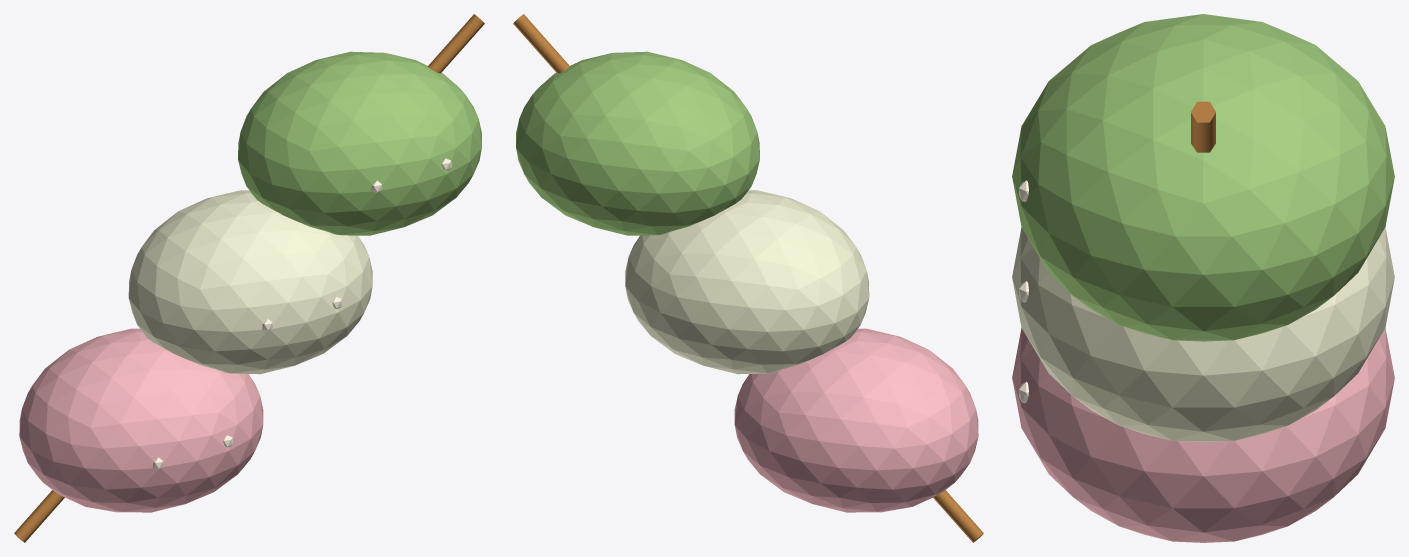
The model's file is mochi.obj.
3 views of the same model, side by side, from view 1: azimuth 30°, elevation 25°; view 2: azimuth 150°, elevation 25°; view 3: azimuth 270°, elevation 25° (orthographic). The views are drawn at different scales.
Visible parts, largest first — view 1: B_RiceCake2.001_mochi_flavor2, B_RiceCake0.001_mochi_flavor0, B_RiceCake1.001_mochi_flavor1, A_Skewer.001_mochi_bamboo_pick; view 2: B_RiceCake2.001_mochi_flavor2, B_RiceCake0.001_mochi_flavor0, B_RiceCake1.001_mochi_flavor1, A_Skewer.001_mochi_bamboo_pick; view 3: B_RiceCake2.001_mochi_flavor2, B_RiceCake1.001_mochi_flavor1, B_RiceCake0.001_mochi_flavor0, A_Skewer.001_mochi_bamboo_pick.
Boxes of the visible parts, <box> form: B_RiceCake2.001_mochi_flavor2: <box>238,51,481,235</box>; B_RiceCake0.001_mochi_flavor0: <box>19,328,263,512</box>; B_RiceCake1.001_mochi_flavor1: <box>128,190,372,374</box>; A_Skewer.001_mochi_bamboo_pick: <box>14,14,484,542</box>; B_RiceCake2.001_mochi_flavor2: <box>516,51,759,235</box>; B_RiceCake0.001_mochi_flavor0: <box>734,328,978,512</box>; B_RiceCake1.001_mochi_flavor1: <box>625,190,869,374</box>; A_Skewer.001_mochi_bamboo_pick: <box>513,14,983,542</box>; B_RiceCake2.001_mochi_flavor2: <box>1012,14,1394,341</box>; B_RiceCake1.001_mochi_flavor1: <box>1012,227,1394,442</box>; B_RiceCake0.001_mochi_flavor0: <box>1012,328,1394,542</box>; A_Skewer.001_mochi_bamboo_pick: <box>1191,101,1215,152</box>.
Bounding box in the file's own units: 1.84 × 1.56 × 0.7564.
